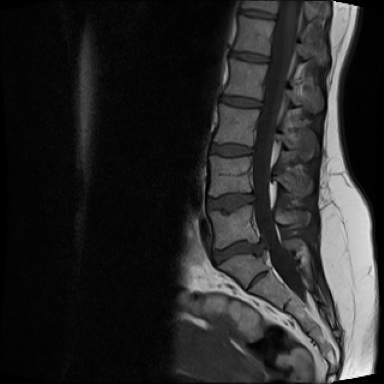Lumbar Disc Bulge (LDB): (202, 228, 278, 274)
Normal IVD: (204, 182, 259, 217), (215, 88, 266, 112), (207, 136, 258, 159), (225, 46, 273, 66), (237, 5, 279, 22)
Spinal Stenosis (SS): (246, 225, 274, 267)
